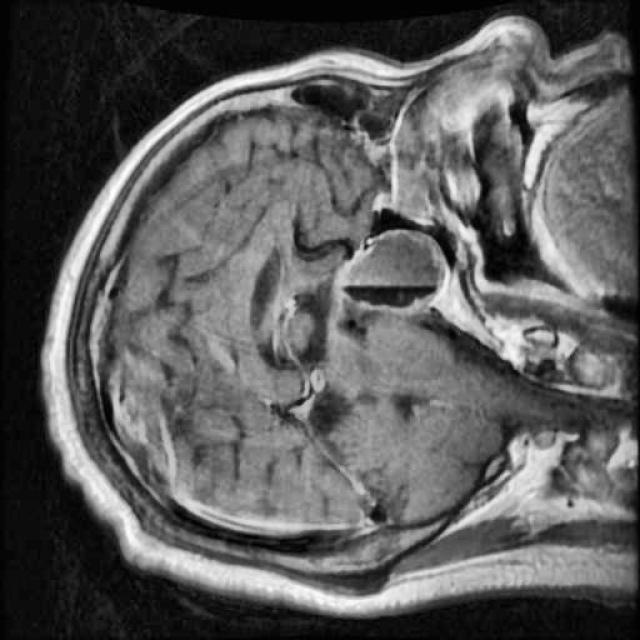Tumor: (326, 218, 464, 325)
